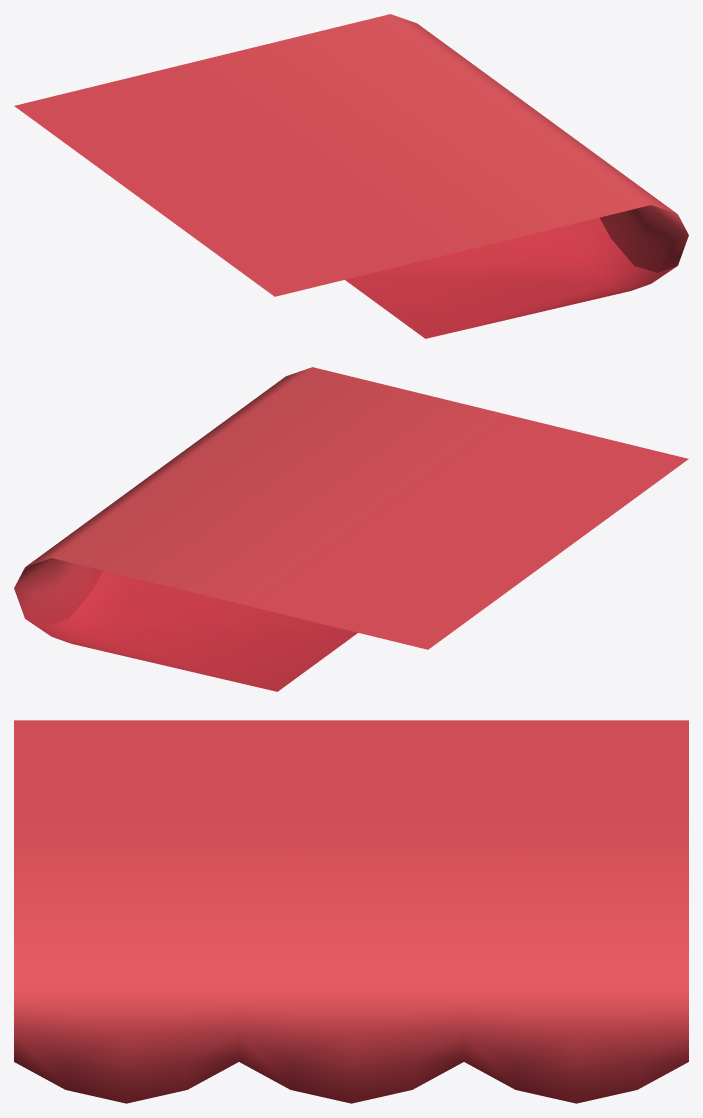
The model's file is Hill_Top_F_Side_Color7.fbx.
3 views of the same model, one above another, from view 1: azimuth 30°, elevation 25°; view 2: azimuth 150°, elevation 25°; view 3: azimuth 270°, elevation 25° (orthographic). The views are drawn at different scales.
Visible parts, largest first — view 1: Hill_Top_F_Side_Color7; view 2: Hill_Top_F_Side_Color7; view 3: Hill_Top_F_Side_Color7.
Part boxes in pixels (x1,y1,x2,y2): Hill_Top_F_Side_Color7: [14, 14, 688, 338]; Hill_Top_F_Side_Color7: [14, 367, 688, 691]; Hill_Top_F_Side_Color7: [14, 720, 688, 1103].
Bounding box in the file's own units: 2.75 × 0.7052 × 3.
